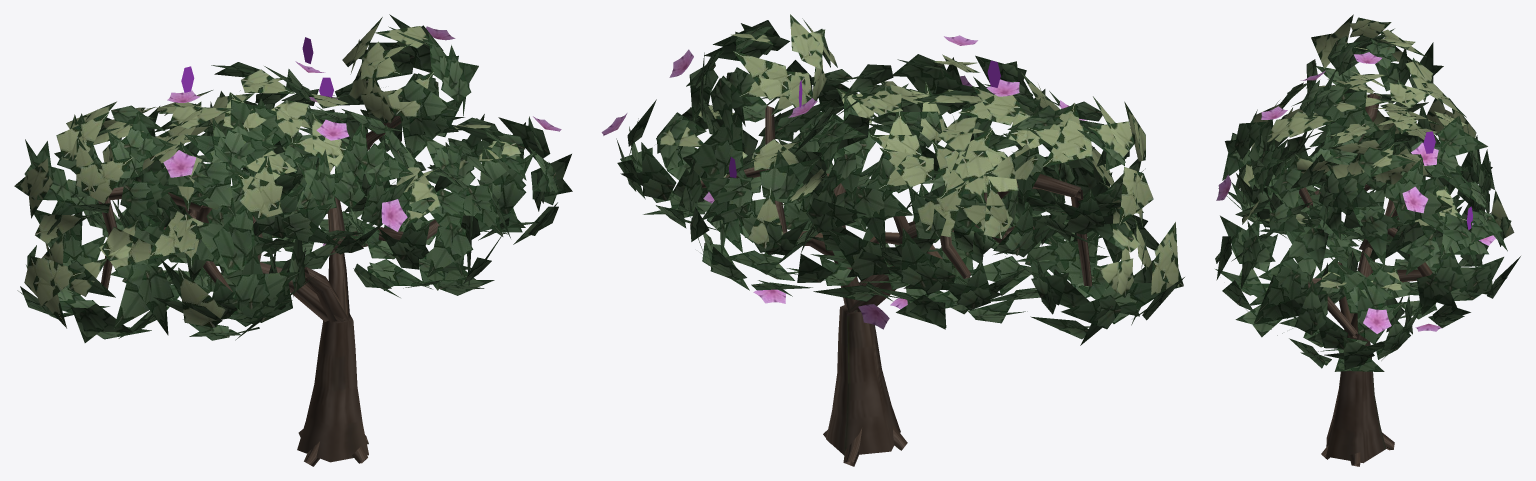
Rendered from tree_violet_far.glb.
3 renders of one model, left to right at view 1: azimuth 30°, elevation 25°; view 2: azimuth 150°, elevation 25°; view 3: azimuth 270°, elevation 25°, orthographic. The views are drawn at different scales.
Parts seen in each view (by area): view 1: tree_violet_lod1; view 2: tree_violet_lod1; view 3: tree_violet_lod1.
Boxes of the visible parts, <box> form: tree_violet_lod1: <box>14,14,572,466</box>; tree_violet_lod1: <box>601,14,1184,466</box>; tree_violet_lod1: <box>1215,14,1520,466</box>.
Bounding box in the file's own units: 3.38 × 2.43 × 1.89.
Materials: 1 (1 with a texture image).
